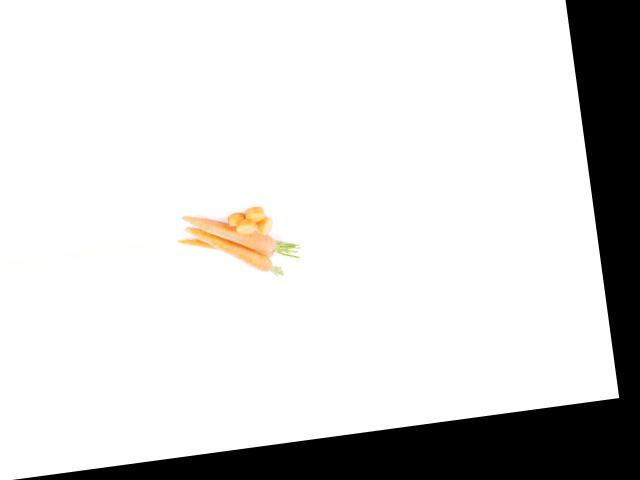carrot: (181, 200, 281, 263)
